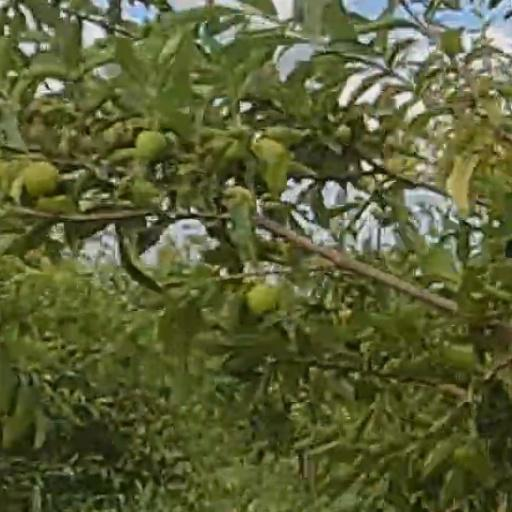acerola: (26, 163, 57, 195), (133, 133, 166, 160), (247, 284, 279, 311)
